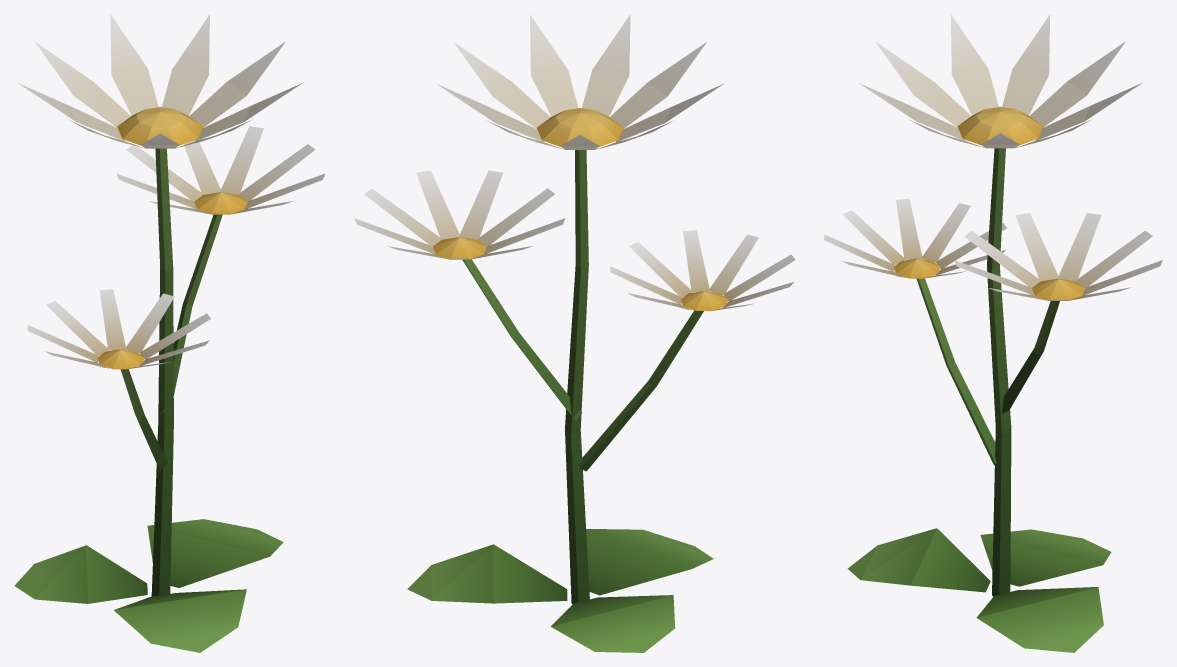
Rendered from flower-daisy.glb.
3 renders of one model, left to right at view 1: azimuth 30°, elevation 25°; view 2: azimuth 150°, elevation 25°; view 3: azimuth 270°, elevation 25°, orthographic.
Parts seen in each view (by area): view 1: daisy; view 2: daisy; view 3: daisy.
Boxes of the visible parts, bbox=[...] form: daisy: bbox=[14, 14, 325, 652]; daisy: bbox=[354, 14, 795, 652]; daisy: bbox=[824, 14, 1162, 652].
Bounding box in the file's own units: 3.12 × 4.6 × 2.68.
